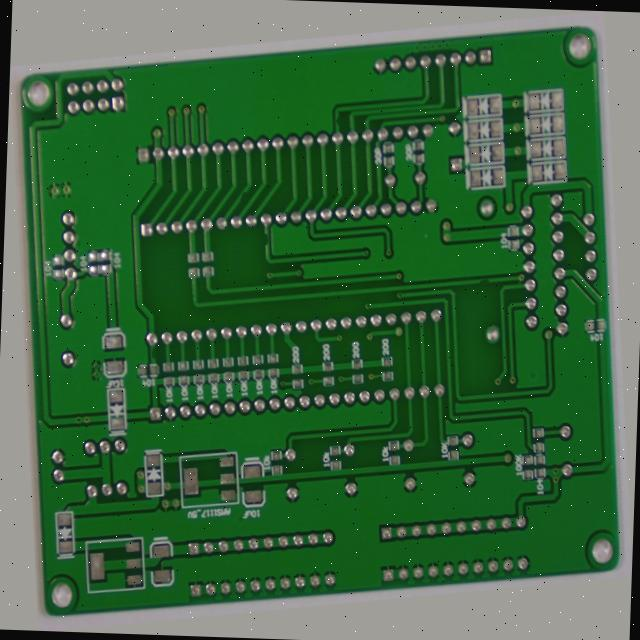mouse_bite: (485, 290, 508, 307), (349, 86, 365, 108), (261, 209, 276, 230), (130, 322, 145, 343), (239, 160, 256, 177)
